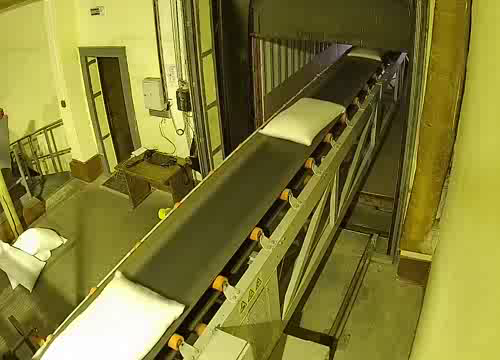bag: (37, 270, 191, 360), (254, 90, 348, 152), (345, 43, 386, 62)
